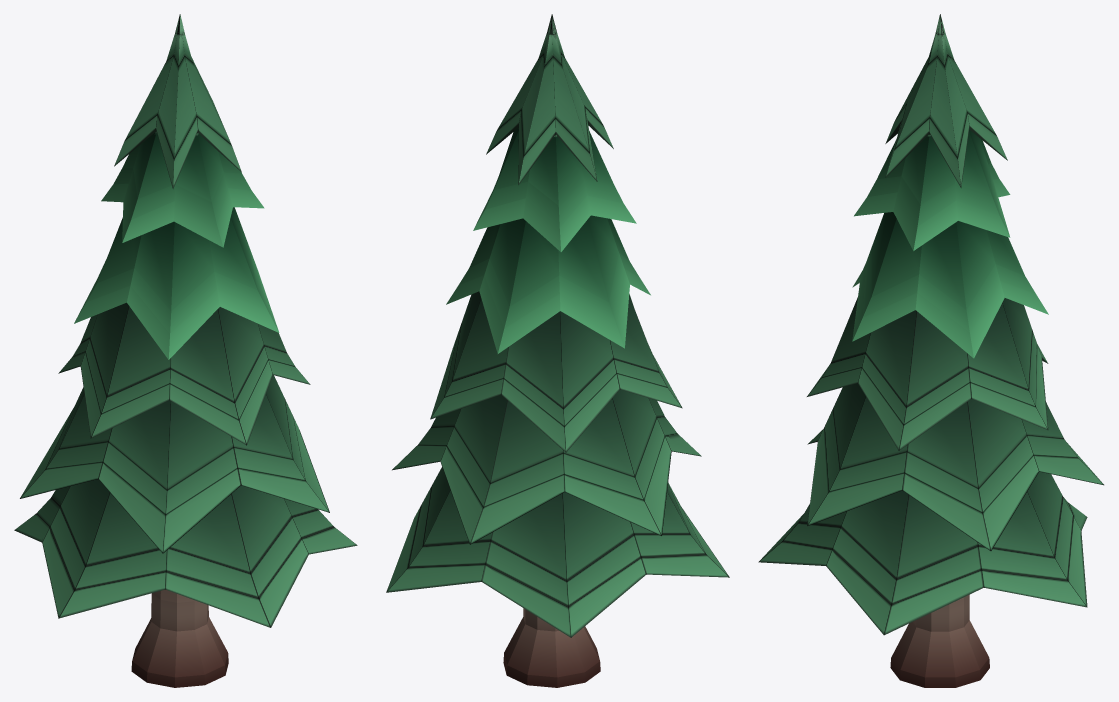
The model's file is symmetricaltreefbx.fbx.
The picture shows the model from 3 angles, left to right: view 1: azimuth 30°, elevation 25°; view 2: azimuth 150°, elevation 25°; view 3: azimuth 270°, elevation 25°; orthographic projection.
Parts seen in each view (by area): view 1: tree2.008; view 2: tree2.008; view 3: tree2.008.
Boxes of the visible parts, x1,y1,x2,y2 form: tree2.008: (14,14,357,687); tree2.008: (386,14,729,687); tree2.008: (758,14,1103,687).
Bounding box in the file's own units: 368 × 767 × 368.
